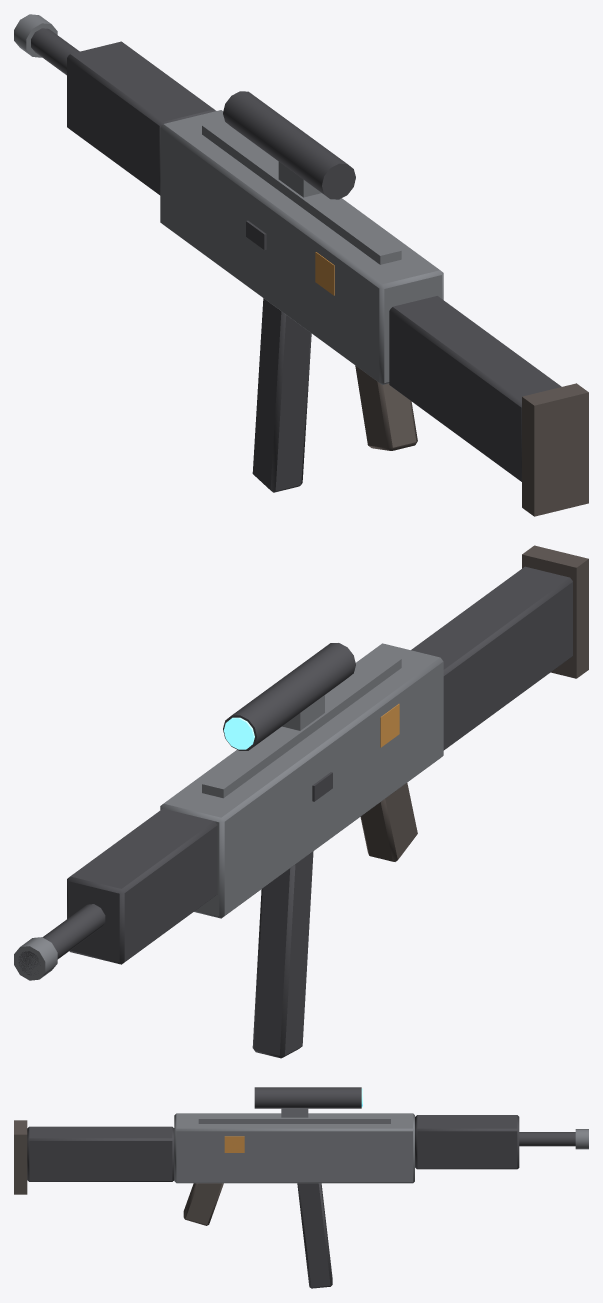
The model's file is falcon.glb.
3 views of the same model, one above another, from view 1: azimuth 30°, elevation 25°; view 2: azimuth 150°, elevation 25°; view 3: azimuth 270°, elevation 25° (orthographic). The views are drawn at different scales.
Parts seen in each view (by area): view 1: wpn_falcon; view 2: wpn_falcon; view 3: wpn_falcon.
Boxes of the visible parts, <box> form: wpn_falcon: <box>14,14,588,516</box>; wpn_falcon: <box>14,545,588,1058</box>; wpn_falcon: <box>14,1087,588,1288</box>.
Size of what is drawn, in the model's own units: 0.0626 by 0.325 by 0.86.
